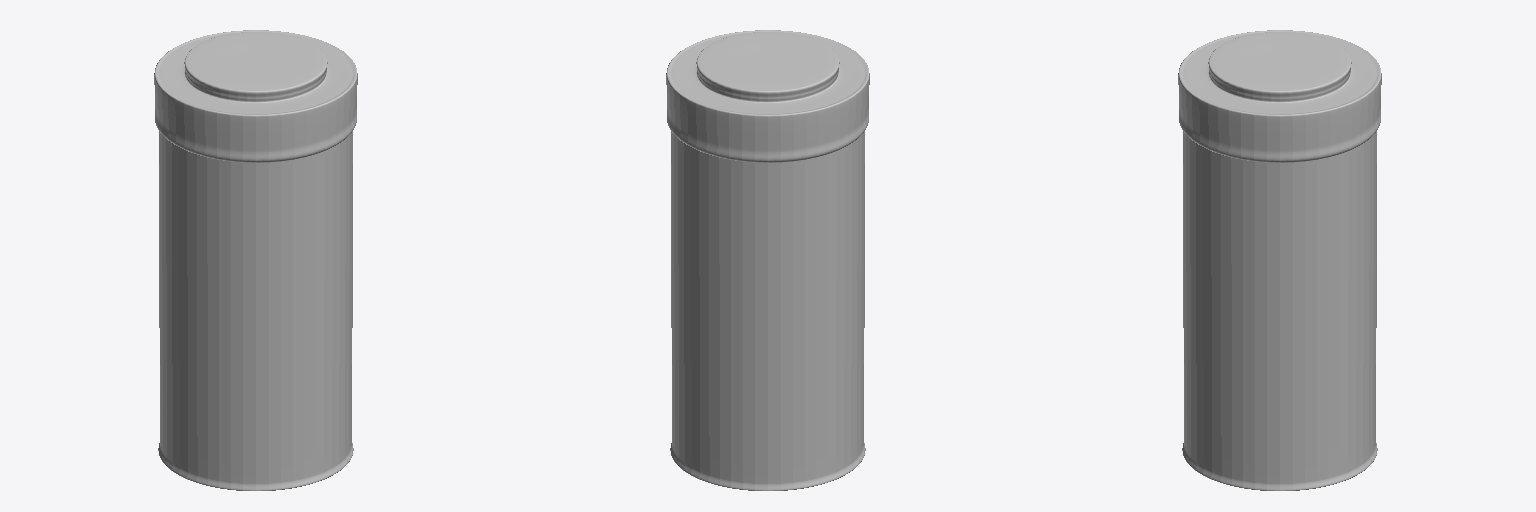
The model's file is bottle-pill1-with-cap.obj.
The picture shows the model from 3 angles: view 1: azimuth 30°, elevation 25°; view 2: azimuth 150°, elevation 25°; view 3: azimuth 270°, elevation 25°; orthographic projection.
Visible parts, largest first — view 1: pill-bottle, pill-bottle-top; view 2: pill-bottle, pill-bottle-top; view 3: pill-bottle, pill-bottle-top.
Part boxes in pixels (x1,y1,x2,y2): pill-bottle: (158,131,353,490); pill-bottle-top: (154,30,357,162); pill-bottle: (670,131,865,490); pill-bottle-top: (666,30,869,162); pill-bottle: (1182,131,1377,490); pill-bottle-top: (1178,30,1381,162).
Bounding box in the file's own units: 0.1228 × 0.2595 × 0.1228.